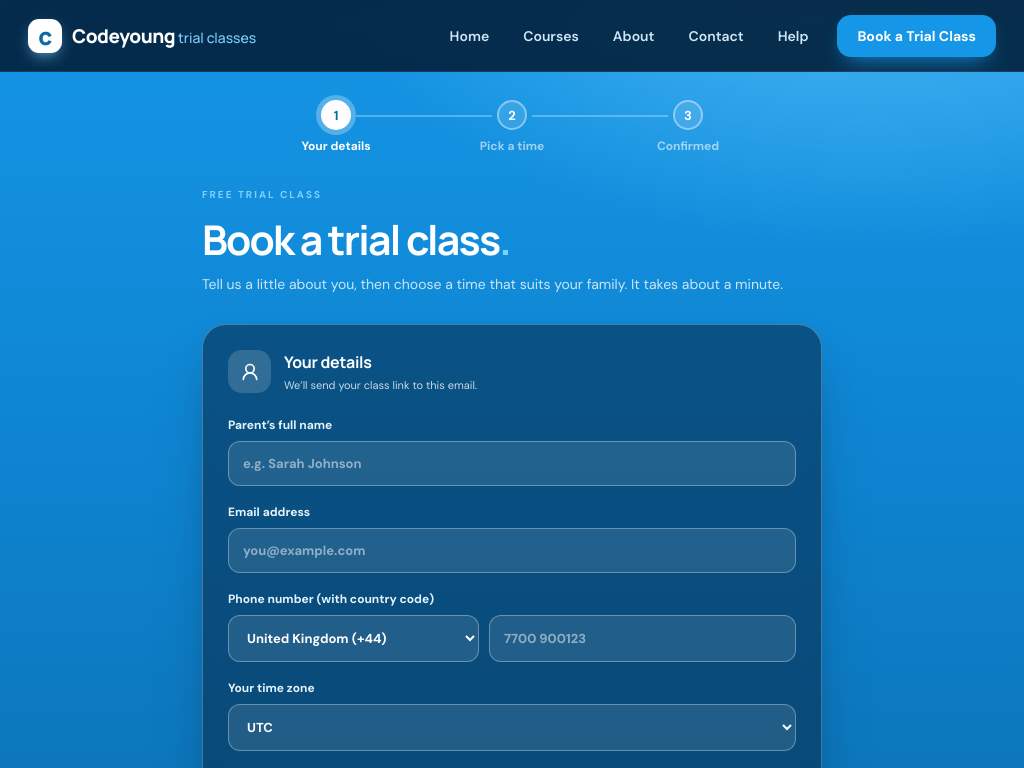
Test case: parent booking journey (no login) › defaults the phone country from the time zone
The width and height of the screenshot is (1024, 768).
Select "India — Kolkata" in the dropdown labelled "Your time zone" at (512, 728), box 228,704 -> 796,751
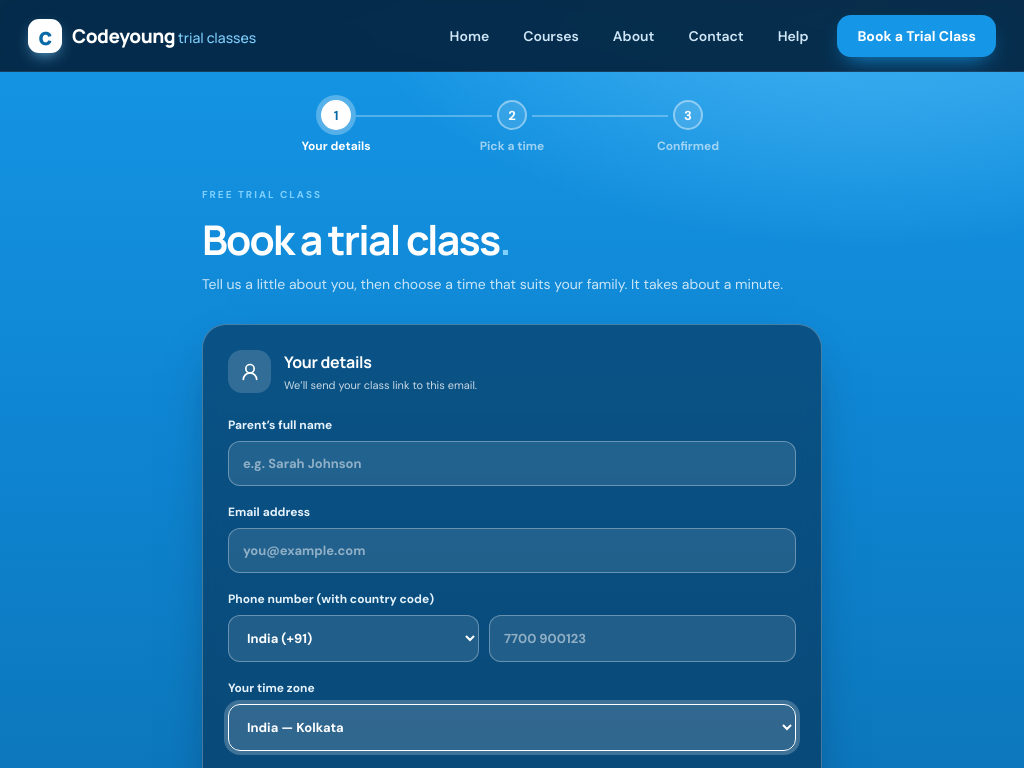
Check: the dropdown named "Country code" shows "India (+91)", box 228,615 -> 479,662
Select "UK — London" in the dropdown labelled "Your time zone" at (512, 728), box 228,704 -> 796,751
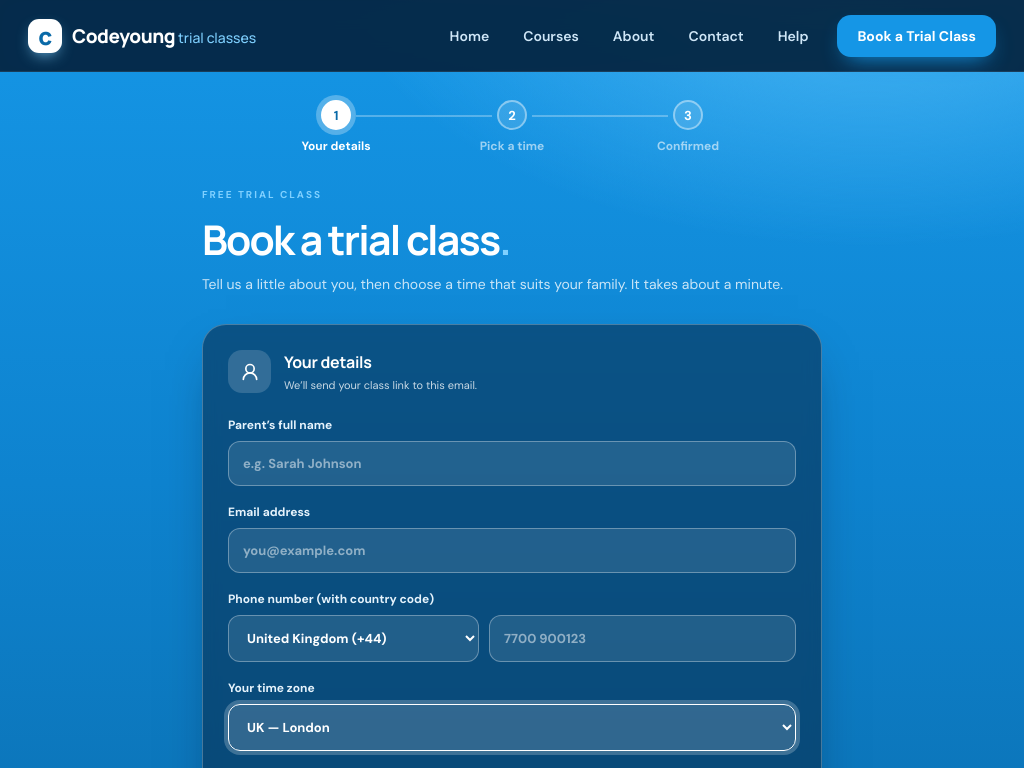
Check: the dropdown named "Country code" shows "United Kingdom (+44)", box 228,615 -> 479,662
